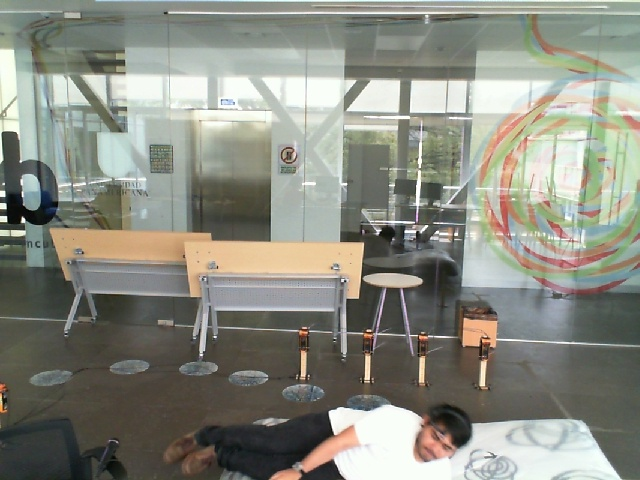fall: (159, 388, 487, 480)
